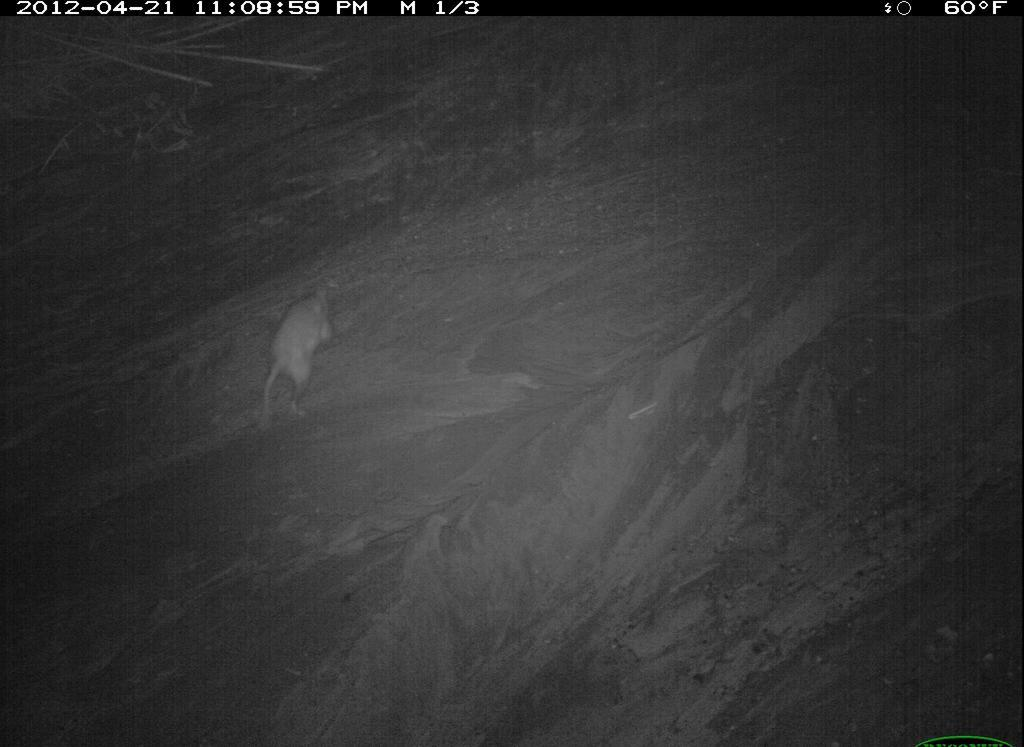opossum: (512, 560, 683, 747)
